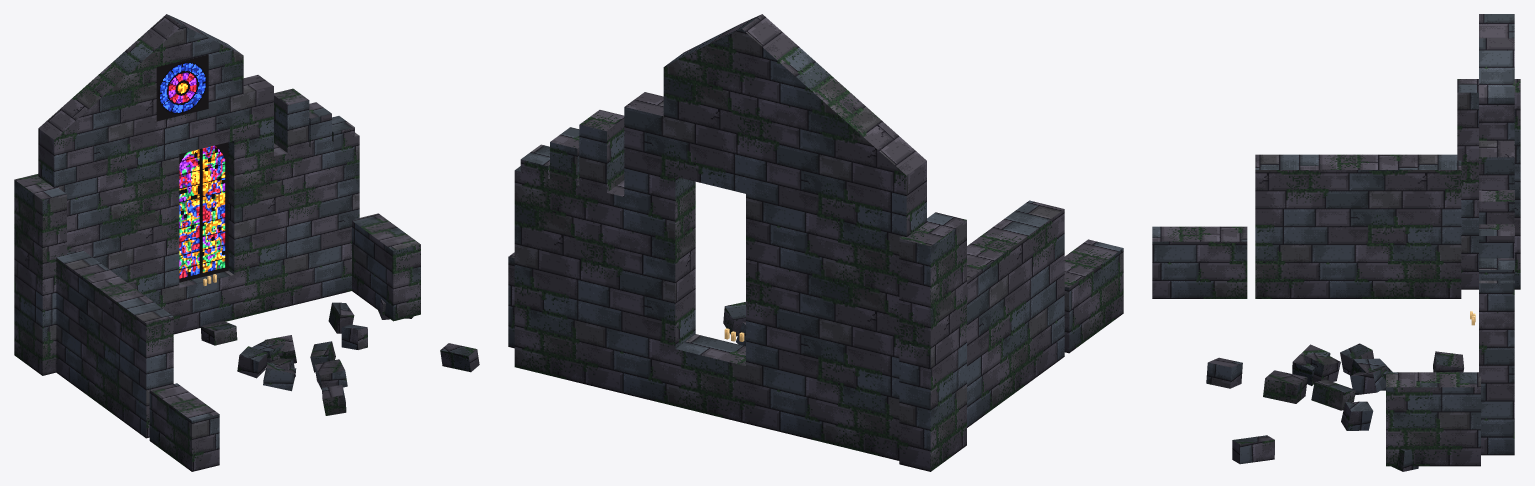
Rendered from ruin.glb.
3 views of the same model, side by side, from view 1: azimuth 30°, elevation 25°; view 2: azimuth 150°, elevation 25°; view 3: azimuth 270°, elevation 25° (orthographic). The views are drawn at different scales.
Visible parts, largest first — view 1: ruin-mesh-0, ruin-mesh-1; view 2: ruin-mesh-0; view 3: ruin-mesh-0.
Boxes of the visible parts, bbox=[...] form: ruin-mesh-0: bbox=[14, 14, 479, 471]; ruin-mesh-1: bbox=[156, 54, 228, 285]; ruin-mesh-0: bbox=[508, 14, 1123, 471]; ruin-mesh-0: bbox=[1152, 14, 1520, 471].
Size of the model in its own units: 11.56 by 9.86 by 9.3.
Materials: 2 (2 with a texture image).
